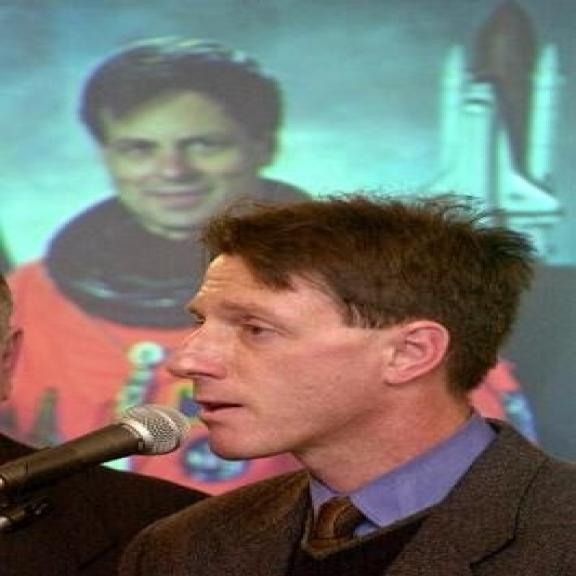face: (163, 218, 466, 460), (97, 104, 288, 228)
